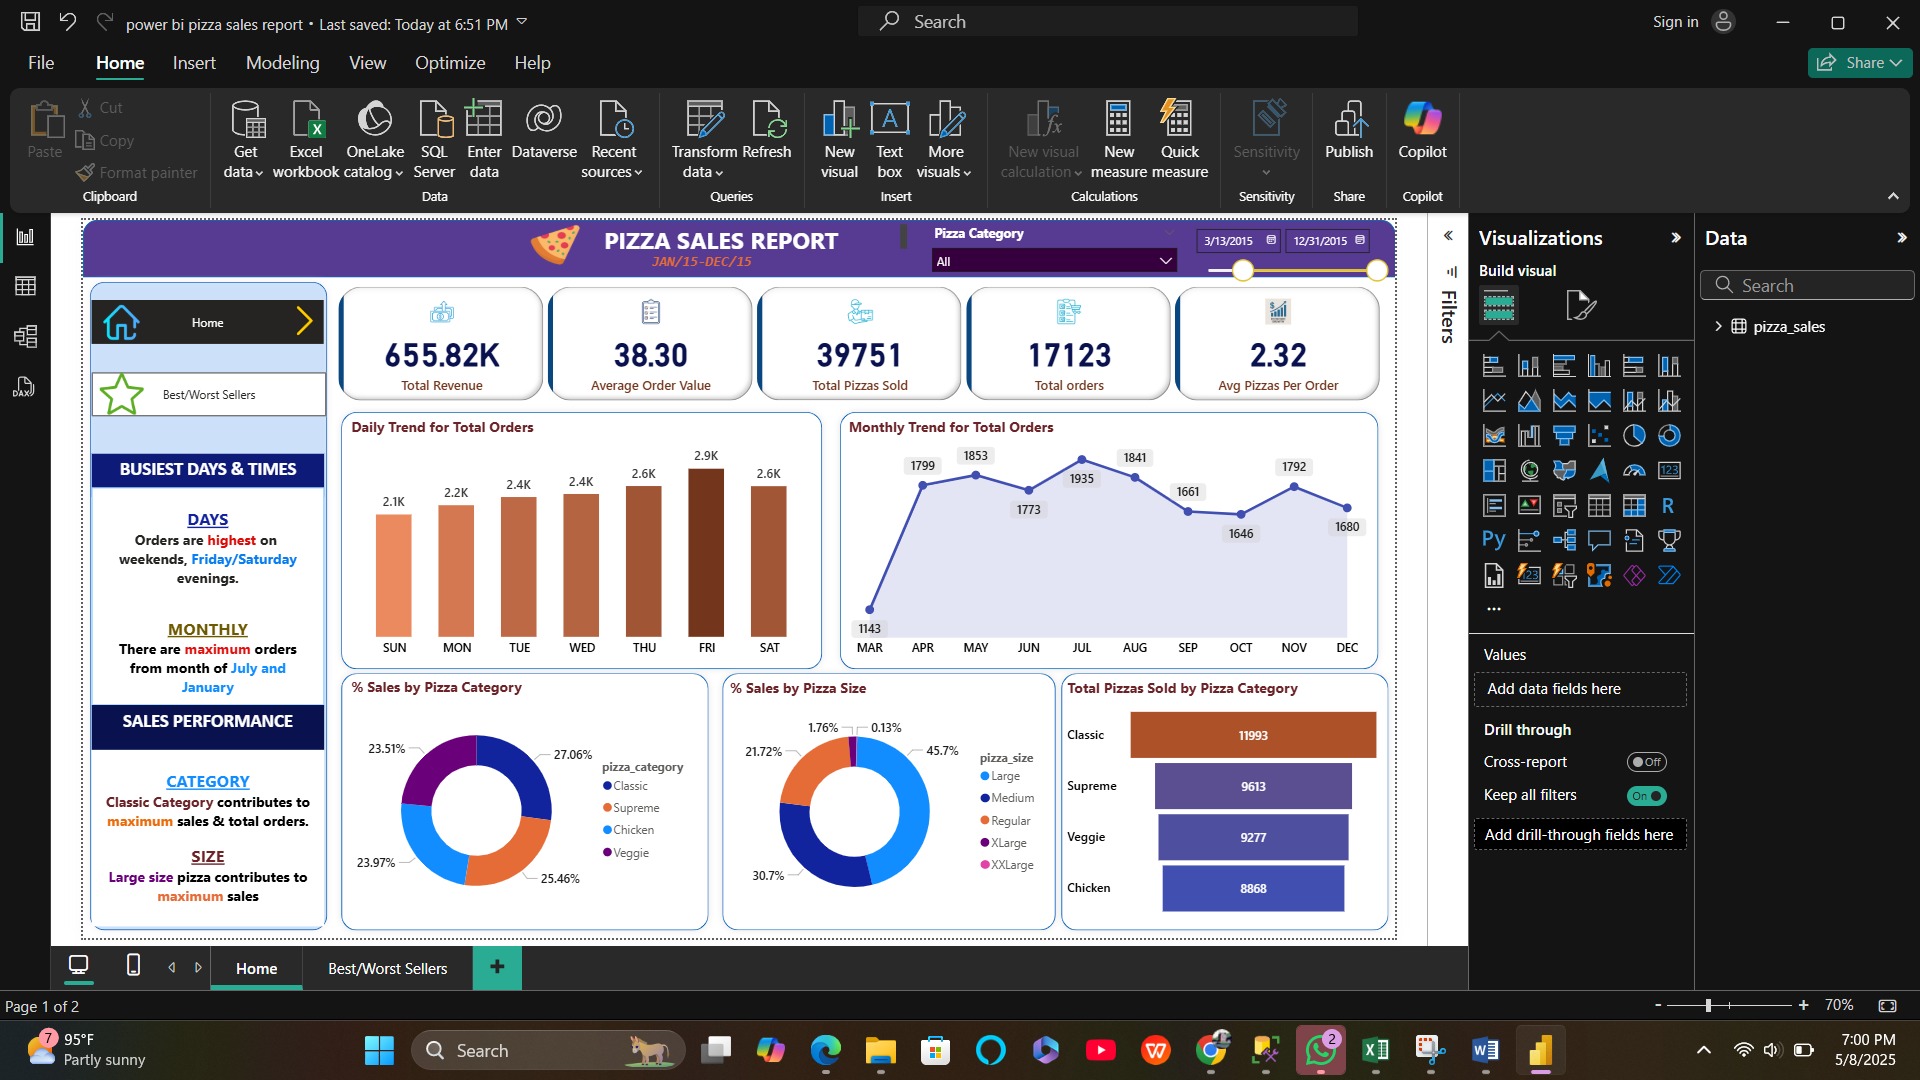

The page's visual inventory and layout, read from the dashboard file:
{"tool":"powerbi","page":{"name":"Home","canvas":[1500,820],"ordinal":0},"visuals":[{"type":"cardVisual","fields":{"Data":["pizza_sales.Total Revenue","pizza_sales.Average Order Value","pizza_sales.Total Pizzas Sold","pizza_sales.Total orders","pizza_sales.Avg Pizzas Per Order"]},"box":[287.1,71.4,1201.4,140],"z":0},{"type":"shape","box":[0,0,1500,65.7],"z":1000},{"type":"textbox","box":[628.6,32.9,157.1,30],"z":2000},{"type":"textbox","box":[424.3,0,522.9,41.4],"z":3000},{"type":"image","box":[505.7,0,68.6,57.1],"z":4000},{"type":"shape","box":[287.1,211.4,565.7,310],"z":5000},{"type":"columnChart","title":"Daily Trend for Total Orders","fields":{"Category":["pizza_sales.ORDER DAY"],"Y":["pizza_sales.Total orders"]},"box":[301.4,224.3,538.6,284.3],"z":6000},{"type":"shape","box":[857.1,211.4,631.4,310],"z":7000},{"type":"areaChart","title":"Monthly Trend for Total Orders","fields":{"Category":["pizza_sales.Order Month"],"Y":["pizza_sales.Total orders"]},"box":[870,224.3,604.3,284.3],"z":8000},{"type":"shape","box":[287.1,510,435.7,310],"z":9000},{"type":"shape","box":[722.9,510,397.1,310],"z":10000},{"type":"shape","box":[1110,510,390,310],"z":11000},{"type":"donutChart","title":"% Sales by Pizza Category","fields":{"Category":["pizza_sales.pizza_category"],"Y":["pizza_sales.Total Revenue"]},"box":[301.4,521.4,405.7,285.7],"z":12000},{"type":"shape","box":[0,62.9,287.1,757.1],"z":13000},{"type":"donutChart","title":"% Sales by Pizza Size","fields":{"Y":["pizza_sales.Total Revenue"],"Category":["pizza_sales.pizza_size"]},"box":[734.3,522.9,375.7,285.7],"z":14000},{"type":"funnel","title":"Total Pizzas Sold by Pizza Category","fields":{"Category":["pizza_sales.pizza_category"],"Y":["pizza_sales.Total Pizzas Sold"]},"box":[1120,522.9,368.6,284.3],"z":15000},{"type":"textbox","box":[10,267.1,265.7,48.6],"z":16000},{"type":"textbox","box":[10,305.7,265.7,248.6],"z":17000},{"type":"textbox","box":[10,554.3,265.7,51.4],"z":18000},{"type":"textbox","box":[10,605.7,265.7,201.4],"z":19000},{"type":"slicer","fields":{"Values":["pizza_sales.pizza_category"]},"box":[960,0,300,65.7],"z":20000},{"type":"slicer","fields":{"Values":["pizza_sales.order_date"]},"box":[1260,0,240,71.4],"z":21000},{"type":"pageNavigator","box":[10,91.4,265.7,50],"z":22000},{"type":"pageNavigator","box":[10,174.3,268.6,50],"z":23000},{"type":"image","box":[231.4,91.4,44.3,47.1],"z":24000},{"type":"image","box":[0,91.4,88.6,51.4],"z":25000},{"type":"image","box":[14.3,48.6,60,300],"z":26000}]}

Visuals, with their boxes on the page's 1500x820 design canvas (x1, y1, x2, y2). These are canvas units, not pixel positions in the 1920x1080 screenshot, which may show the page scaled, cropped or inside an application window:
cardVisual - pizza_sales.Total Revenue x pizza_sales.Average Order Value: rect(287, 71, 1488, 211)
shape: rect(0, 0, 1500, 66)
textbox: rect(629, 33, 786, 63)
textbox: rect(424, 0, 947, 41)
image: rect(506, 0, 574, 57)
shape: rect(287, 211, 853, 521)
"Daily Trend for Total Orders" columnChart: rect(301, 224, 840, 509)
shape: rect(857, 211, 1488, 521)
"Monthly Trend for Total Orders" areaChart: rect(870, 224, 1474, 509)
shape: rect(287, 510, 723, 820)
shape: rect(723, 510, 1120, 820)
shape: rect(1110, 510, 1500, 820)
"% Sales by Pizza Category" donutChart: rect(301, 521, 707, 807)
shape: rect(0, 63, 287, 820)
"% Sales by Pizza Size" donutChart: rect(734, 523, 1110, 809)
"Total Pizzas Sold by Pizza Category" funnel: rect(1120, 523, 1489, 807)
textbox: rect(10, 267, 276, 316)
textbox: rect(10, 306, 276, 554)
textbox: rect(10, 554, 276, 606)
textbox: rect(10, 606, 276, 807)
slicer - pizza_sales.pizza_category: rect(960, 0, 1260, 66)
slicer - pizza_sales.order_date: rect(1260, 0, 1500, 71)
pageNavigator: rect(10, 91, 276, 141)
pageNavigator: rect(10, 174, 279, 224)
image: rect(231, 91, 276, 138)
image: rect(0, 91, 89, 143)
image: rect(14, 49, 74, 349)
